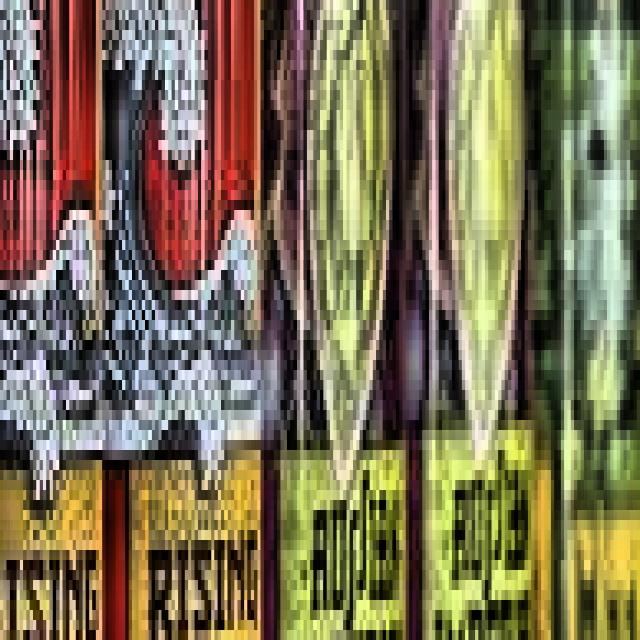metal: (96, 0, 264, 640), (251, 0, 412, 640), (402, 0, 538, 640), (0, 0, 112, 640), (531, 0, 640, 640)
